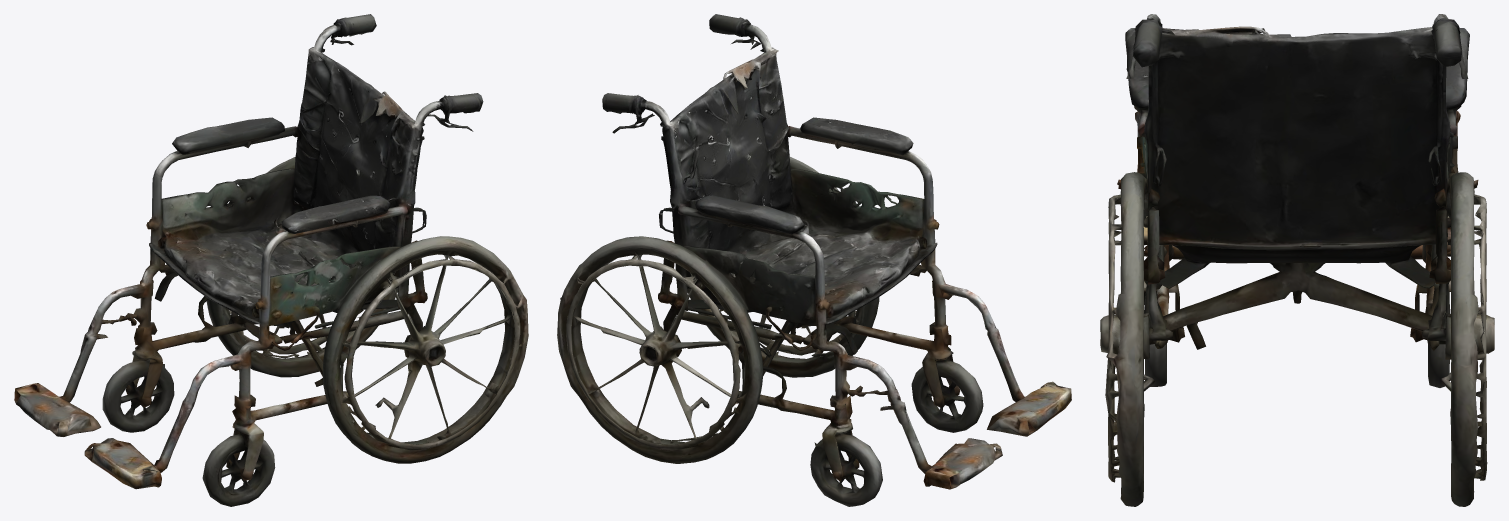
The model's file is wheelchair.glb.
3 views of the same model, side by side, from view 1: azimuth 30°, elevation 25°; view 2: azimuth 150°, elevation 25°; view 3: azimuth 270°, elevation 25° (orthographic). The views are drawn at different scales.
Parts seen in each view (by area): view 1: tripo_node_304887fa-e6ef-438d-92c0-79f2978155fa; view 2: tripo_node_304887fa-e6ef-438d-92c0-79f2978155fa; view 3: tripo_node_304887fa-e6ef-438d-92c0-79f2978155fa.
Boxes of the visible parts, <box> form: tripo_node_304887fa-e6ef-438d-92c0-79f2978155fa: <box>14,14,528,506</box>; tripo_node_304887fa-e6ef-438d-92c0-79f2978155fa: <box>557,14,1071,506</box>; tripo_node_304887fa-e6ef-438d-92c0-79f2978155fa: <box>1100,14,1494,506</box>.
Size of the model in its own units: 0.9971 by 0.8629 by 0.6102.
Materials: 1 (1 with a texture image).
